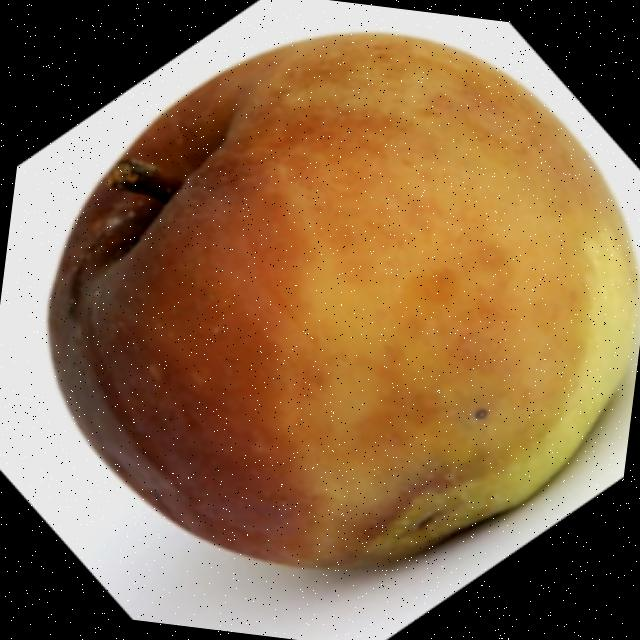Rotten: (7, 0, 640, 613)
